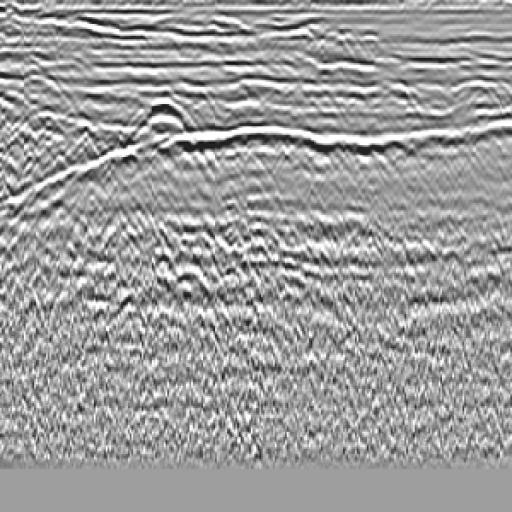non-metallic: (72, 82, 256, 306)
